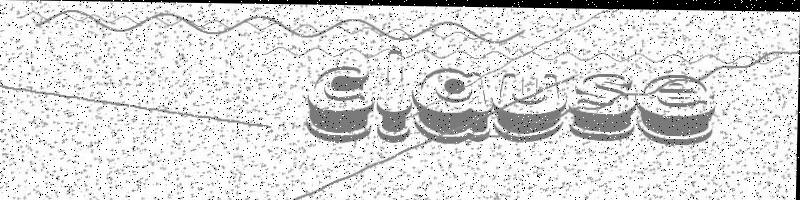a: (412, 64, 493, 143)
c: (306, 63, 376, 143)
e: (636, 71, 716, 144)
l: (375, 46, 413, 143)
s: (569, 71, 637, 140)
u: (492, 68, 568, 142)
